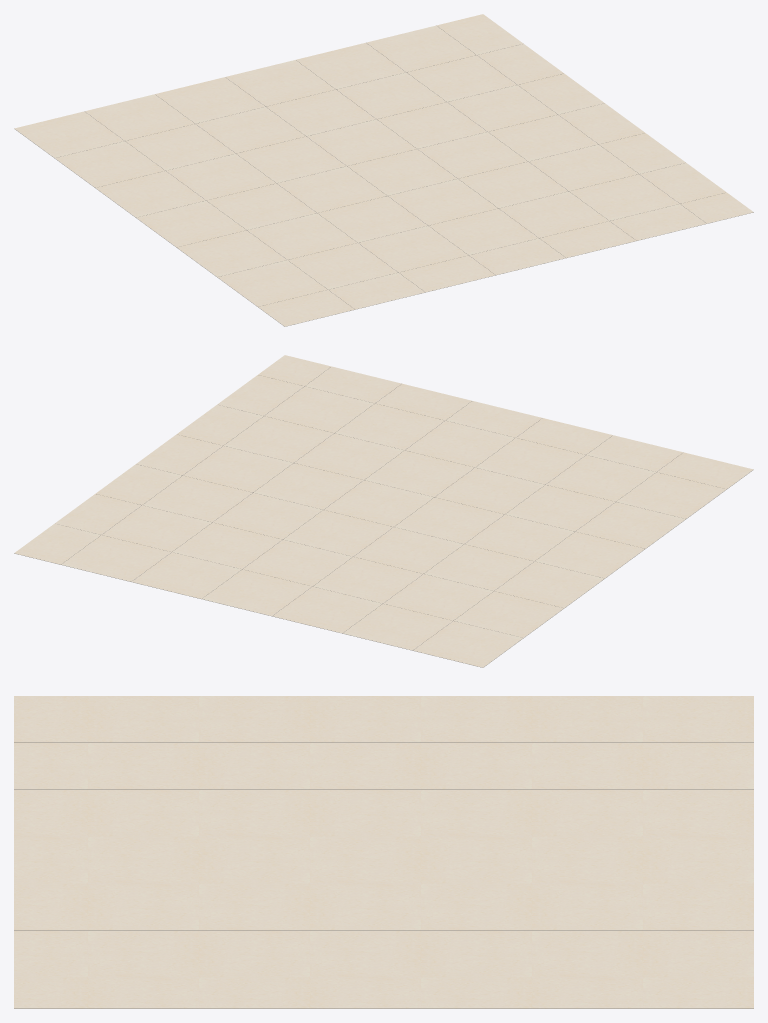
File: tesoro-crema-120x120.glb
The picture shows the model from 3 angles, top to bottom: view 1: azimuth 30°, elevation 25°; view 2: azimuth 150°, elevation 25°; view 3: azimuth 270°, elevation 25°; orthographic projection. The views are drawn at different scales.
Visible parts, largest first — view 1: Tesoro Crema; view 2: Tesoro Crema; view 3: Tesoro Crema.
Part boxes in pixels (box(x1,y1,x2,y2)): Tesoro Crema: box(14, 14, 753, 326); Tesoro Crema: box(14, 355, 753, 667); Tesoro Crema: box(14, 696, 753, 1008).
Size of the model in its own units: 8 by 0.003 by 8.
2 materials, 1 textured.
